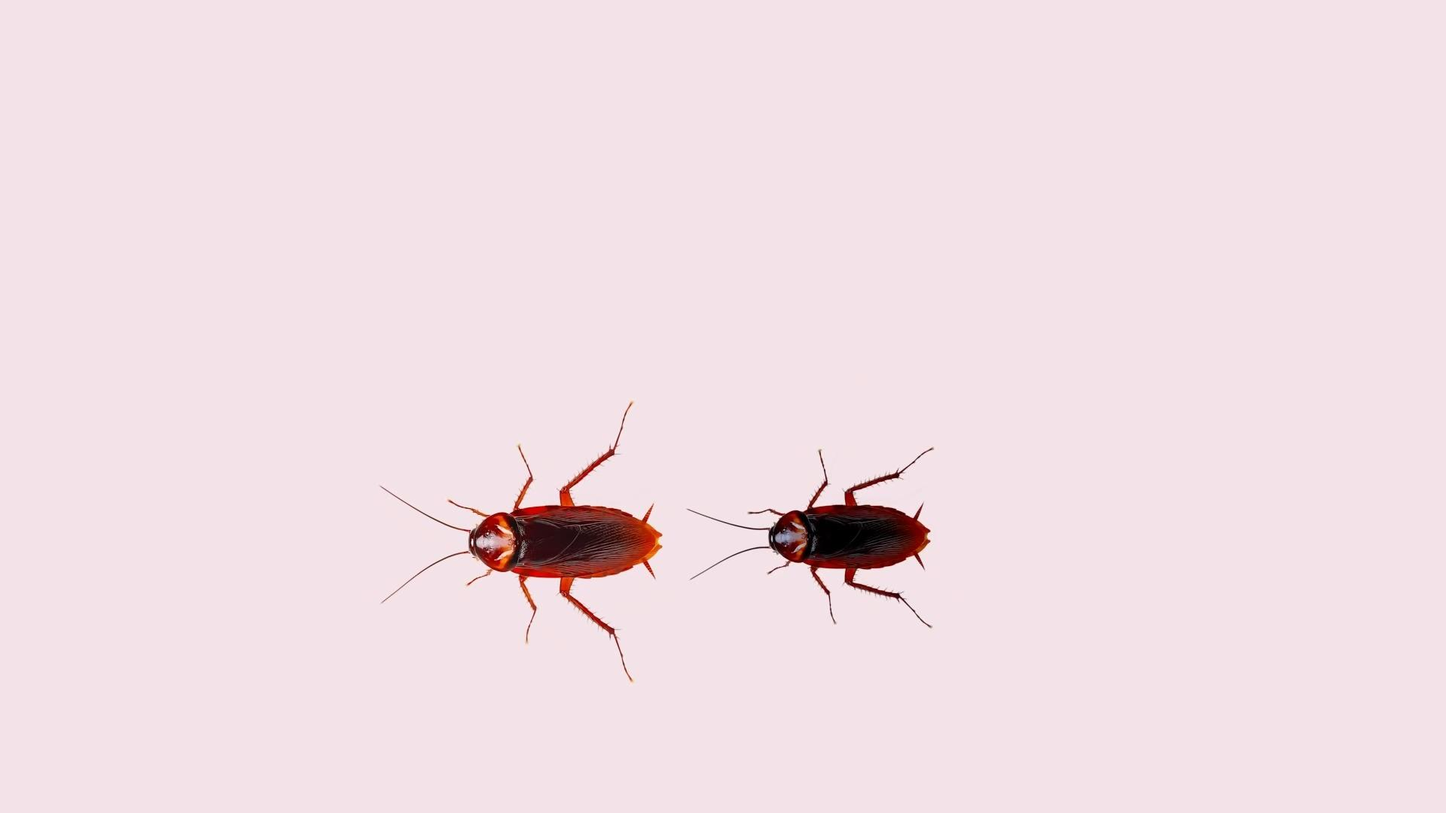cockroach: (388, 461, 671, 636), (720, 490, 933, 613)
